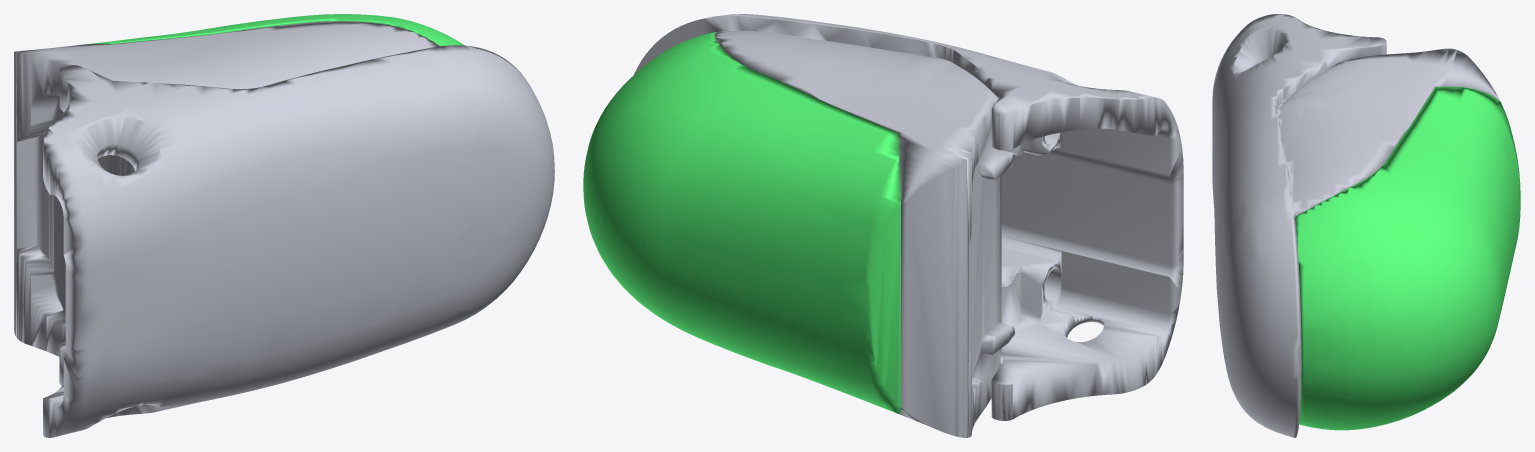
File: right_pinky_DP.glb
3 views of the same model, side by side, from view 1: azimuth 30°, elevation 25°; view 2: azimuth 150°, elevation 25°; view 3: azimuth 270°, elevation 25° (orthographic). The views are drawn at different scales.
Bounding box in the file's own units: 0.0266 × 0.0153 × 0.0158.
